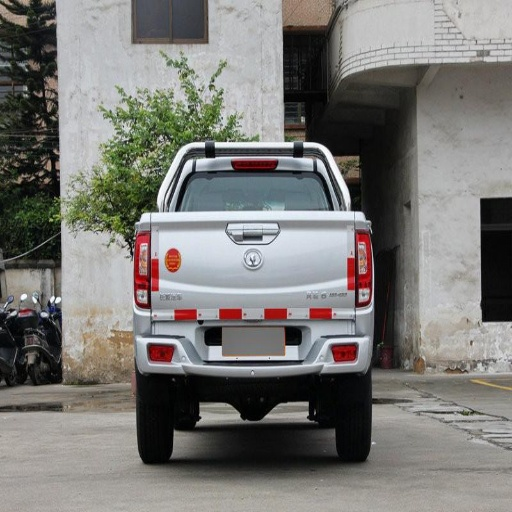back_bumper: (130, 308, 374, 379)
trunk: (152, 210, 359, 326)
